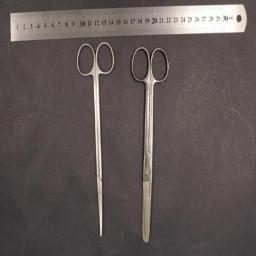Dressing Scissors: (130, 46, 170, 242)
